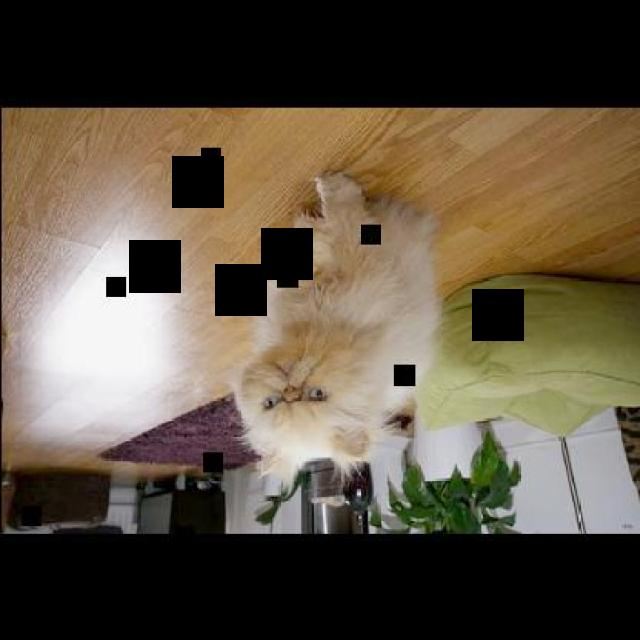unauthorized: (226, 168, 443, 489)
